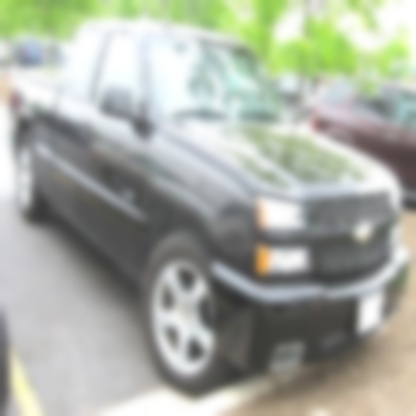Vehicle: (7, 18, 408, 398)
